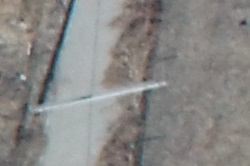opora: (29, 77, 169, 115)
